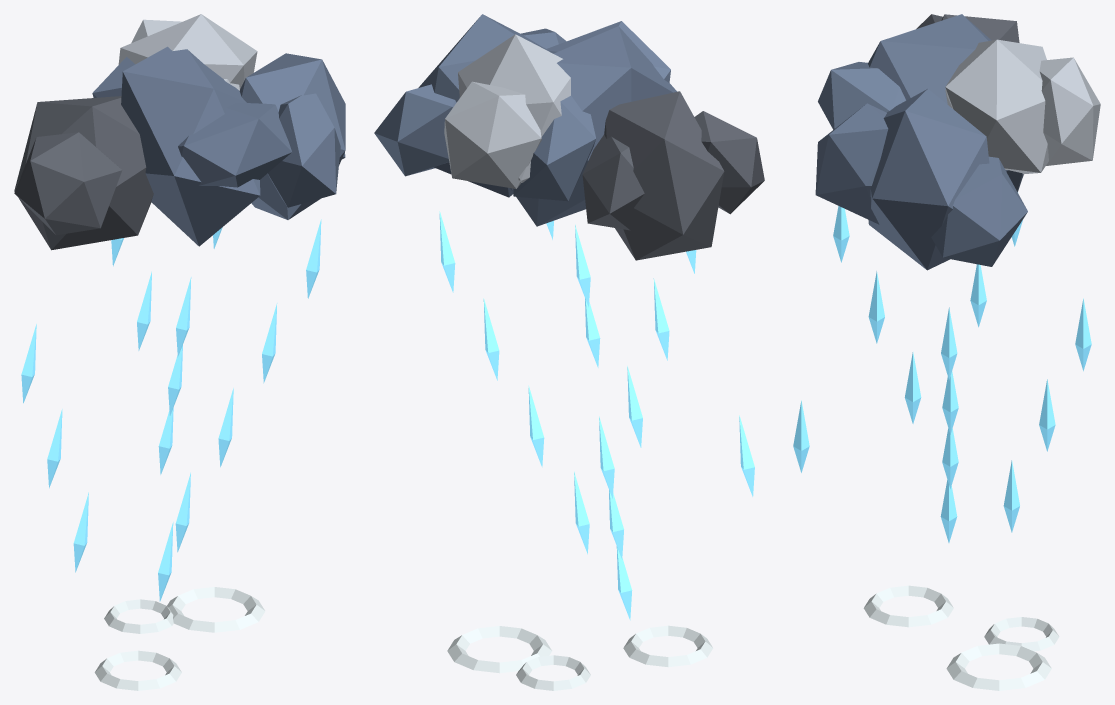
Rendered from fx_weather_rain_cloud.glb.
3 renders of one model, left to right at view 1: azimuth 30°, elevation 25°; view 2: azimuth 150°, elevation 25°; view 3: azimuth 270°, elevation 25°, orthographic. The views are drawn at different scales.
Parts seen in each view (by area): view 1: fx_weather_rain_cloud_cloud_mid, fx_weather_rain_cloud_cloud_dark, fx_weather_rain_cloud_rain_drop, fx_weather_rain_cloud_rain_splash, fx_weather_rain_cloud_cloud_light; view 2: fx_weather_rain_cloud_cloud_mid, fx_weather_rain_cloud_cloud_dark, fx_weather_rain_cloud_cloud_light, fx_weather_rain_cloud_rain_drop, fx_weather_rain_cloud_rain_splash; view 3: fx_weather_rain_cloud_cloud_mid, fx_weather_rain_cloud_cloud_light, fx_weather_rain_cloud_rain_drop, fx_weather_rain_cloud_rain_splash, fx_weather_rain_cloud_cloud_dark.
Part boxes in pixels (box(x1,y1,x2,y2)): fx_weather_rain_cloud_cloud_mid: box(92, 46, 345, 246); fx_weather_rain_cloud_cloud_dark: box(14, 96, 153, 250); fx_weather_rain_cloud_rain_drop: box(21, 219, 321, 601); fx_weather_rain_cloud_rain_splash: box(94, 587, 265, 690); fx_weather_rain_cloud_cloud_light: box(118, 14, 257, 90); fx_weather_rain_cloud_cloud_mid: box(374, 14, 676, 226); fx_weather_rain_cloud_cloud_dark: box(582, 91, 764, 260); fx_weather_rain_cloud_cloud_light: box(444, 34, 570, 188); fx_weather_rain_cloud_rain_drop: box(439, 211, 754, 620); fx_weather_rain_cloud_rain_splash: box(447, 625, 713, 690); fx_weather_rain_cloud_cloud_mid: box(815, 14, 1027, 270); fx_weather_rain_cloud_cloud_light: box(945, 39, 1100, 174); fx_weather_rain_cloud_rain_drop: box(793, 206, 1091, 542); fx_weather_rain_cloud_rain_splash: box(863, 585, 1059, 690); fx_weather_rain_cloud_cloud_dark: box(916, 14, 1019, 42).
Bounding box in the file's own units: 1.09 × 1.82 × 0.8166.
